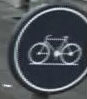bike lane: (9, 3, 84, 87)
